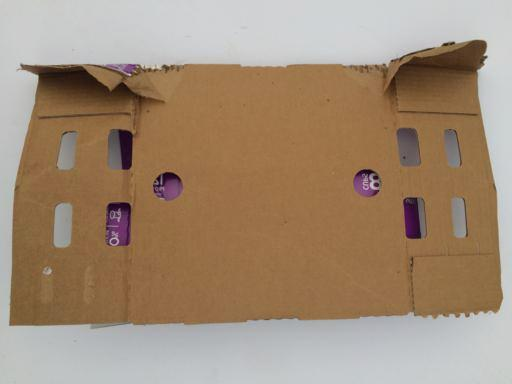cardboard: (4, 46, 508, 336)
